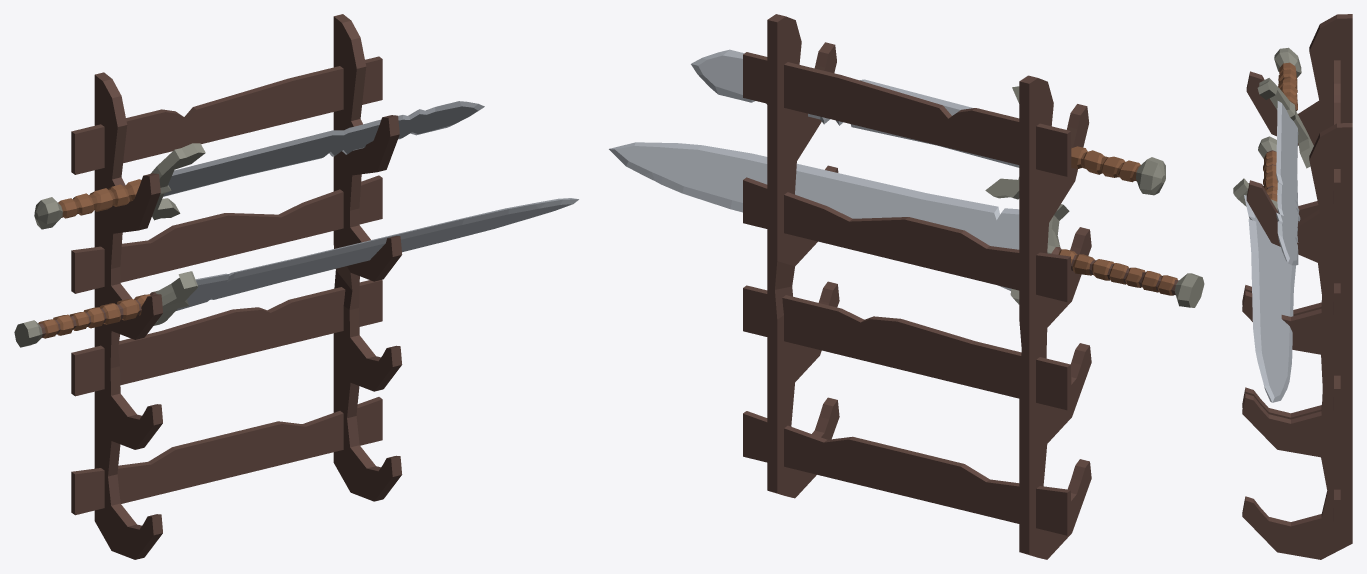
File: Sword_WallMount.glb
3 renders of one model, left to right at view 1: azimuth 30°, elevation 25°; view 2: azimuth 150°, elevation 25°; view 3: azimuth 270°, elevation 25°, orthographic. The views are drawn at different scales.
Visible parts, largest first — view 1: Sword_WallMount, Sword_big, Sword; view 2: Sword_WallMount, Sword_big, Sword; view 3: Sword_WallMount, Sword_big, Sword.
Boxes of the visible parts, box(x1,y1,x2,y2) form: Sword_WallMount: box(71, 14, 402, 559); Sword_big: box(14, 198, 578, 347); Sword: box(34, 101, 484, 229); Sword_WallMount: box(743, 14, 1091, 559); Sword_big: box(609, 142, 1204, 307); Sword: box(691, 49, 1165, 199); Sword_WallMount: box(1242, 14, 1352, 559); Sword_big: box(1233, 136, 1295, 402); Sword: box(1257, 47, 1313, 265).
Size of the model in its own units: 1.07 by 0.8471 by 0.2117.
